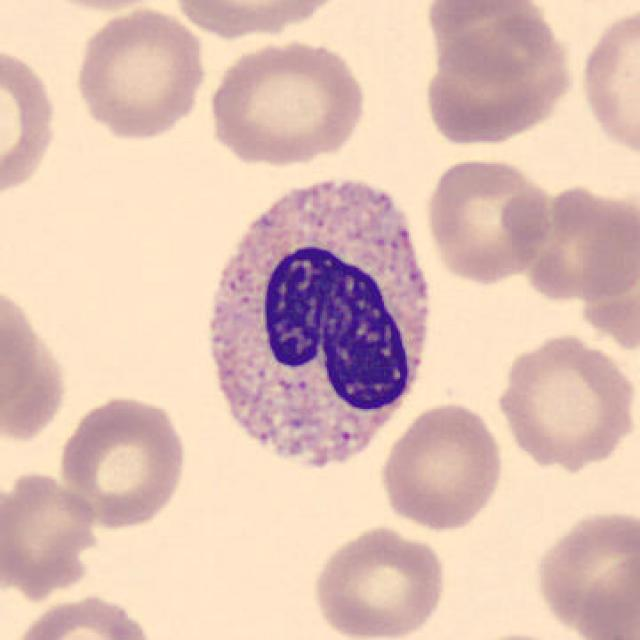Neutrophil: (186, 164, 444, 490)
RBC: (204, 36, 370, 168), (420, 18, 578, 150), (491, 330, 636, 470), (69, 3, 210, 143), (54, 391, 190, 531), (421, 154, 555, 286), (377, 398, 507, 532), (308, 522, 450, 640), (512, 180, 638, 307), (530, 504, 638, 636), (0, 465, 101, 597), (423, 0, 564, 85), (0, 37, 62, 205), (576, 3, 640, 164), (0, 277, 61, 437), (167, 0, 348, 42), (7, 590, 158, 640), (574, 550, 638, 640), (26, 0, 178, 14), (446, 627, 590, 640)
